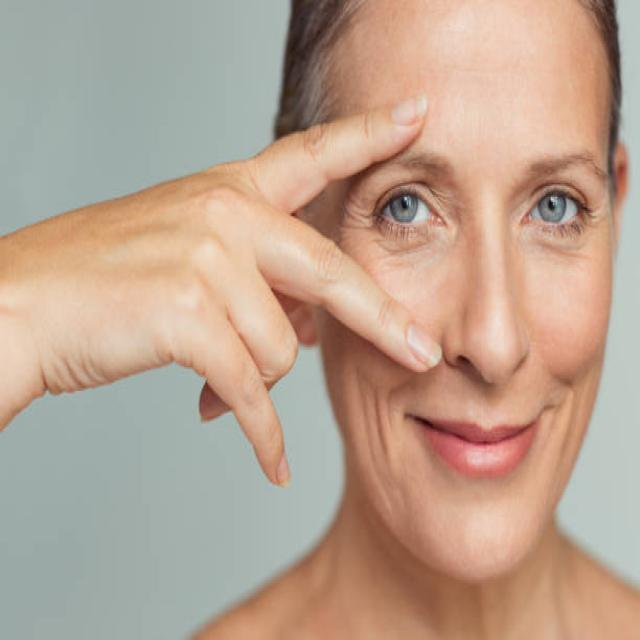Dry-Skin: (542, 271, 616, 459)
